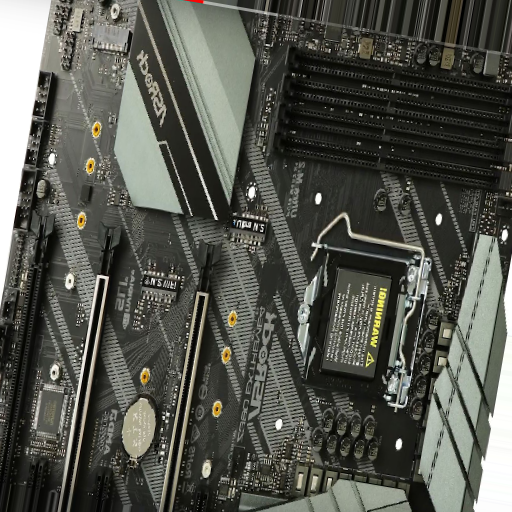CPU: (296, 247, 416, 392)
GPU: (56, 220, 125, 512), (155, 240, 224, 511), (2, 212, 56, 491)
MOTHERBOARD: (5, 1, 504, 509)
RAM: (266, 38, 512, 193)
SSD: (225, 210, 272, 248), (141, 270, 181, 306)
